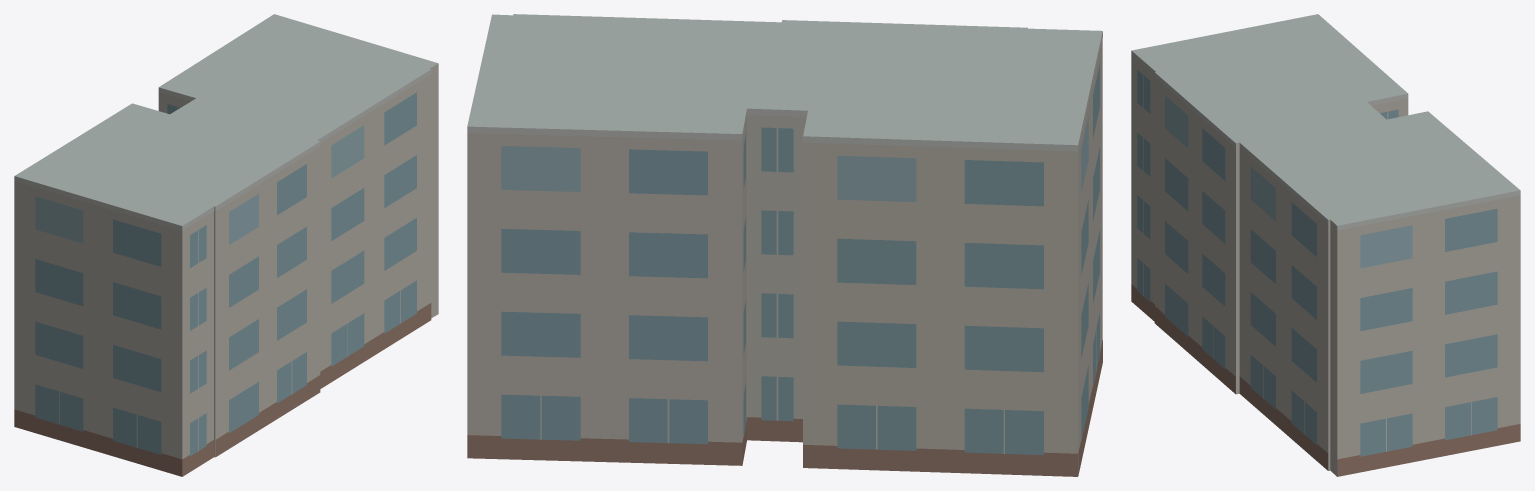
Rendered from survey-upis-32670522.glb.
3 views of the same model, side by side, from view 1: azimuth 30°, elevation 25°; view 2: azimuth 150°, elevation 25°; view 3: azimuth 270°, elevation 25° (orthographic). The views are drawn at different scales.
Visible parts, largest first — view 1: survey-upis-32670522.tmp; view 2: survey-upis-32670522.tmp; view 3: survey-upis-32670522.tmp.
Boxes of the visible parts, x1,y1,x2,y2 form: survey-upis-32670522.tmp: (14, 14, 438, 476); survey-upis-32670522.tmp: (467, 14, 1102, 476); survey-upis-32670522.tmp: (1131, 14, 1520, 476).
Size of the model in its own units: 23.18 by 12.8 by 17.99.
